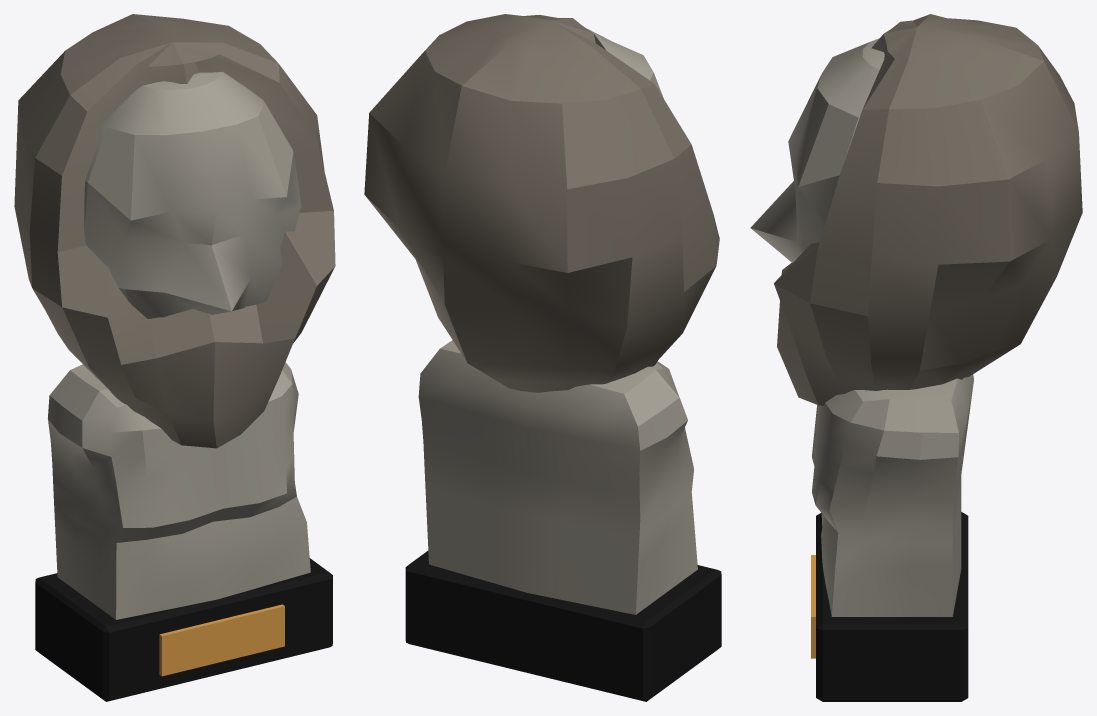
The model's file is Statue.fbx.
The picture shows the model from 3 angles, left to right: view 1: azimuth 30°, elevation 25°; view 2: azimuth 150°, elevation 25°; view 3: azimuth 270°, elevation 25°; orthographic projection. The views are drawn at different scales.
Visible parts, largest first — view 1: Statue; view 2: Statue; view 3: Statue.
Boxes of the visible parts, box(x1,y1,x2,y2) form: Statue: box(14, 14, 335, 701); Statue: box(364, 14, 721, 701); Statue: box(750, 14, 1082, 701).
Bounding box in the file's own units: 113 × 238 × 116.
